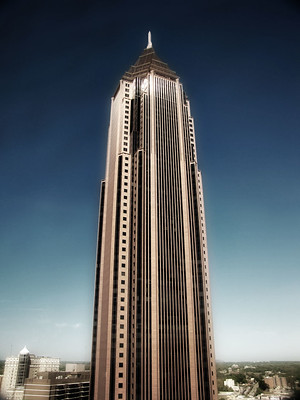low: (88, 44, 221, 400)
